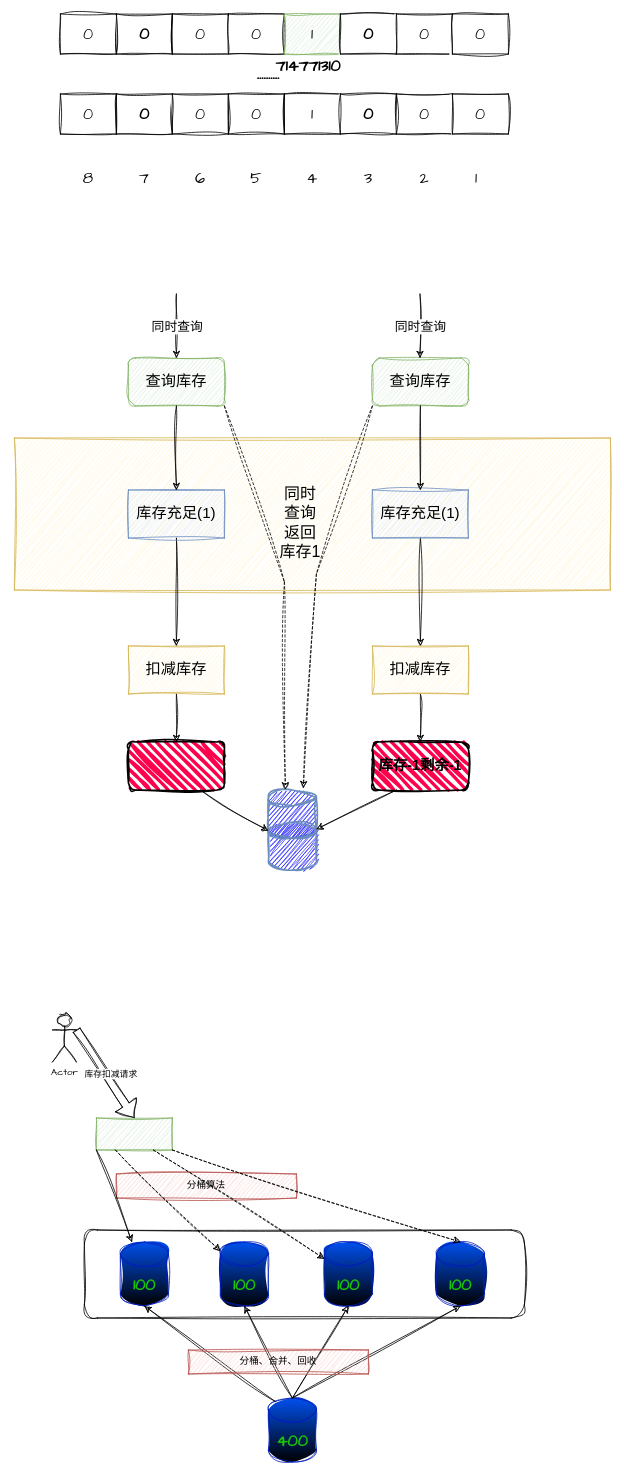
This 624x1476 diagram has some shape labels left out. The box of each missing label's shape, as (x1, y1, x2, y2) in pixels:
DB: (267, 789, 317, 838)
库存-1剩余0: (127, 741, 225, 790)
库存扣减: (96, 1117, 172, 1150)
